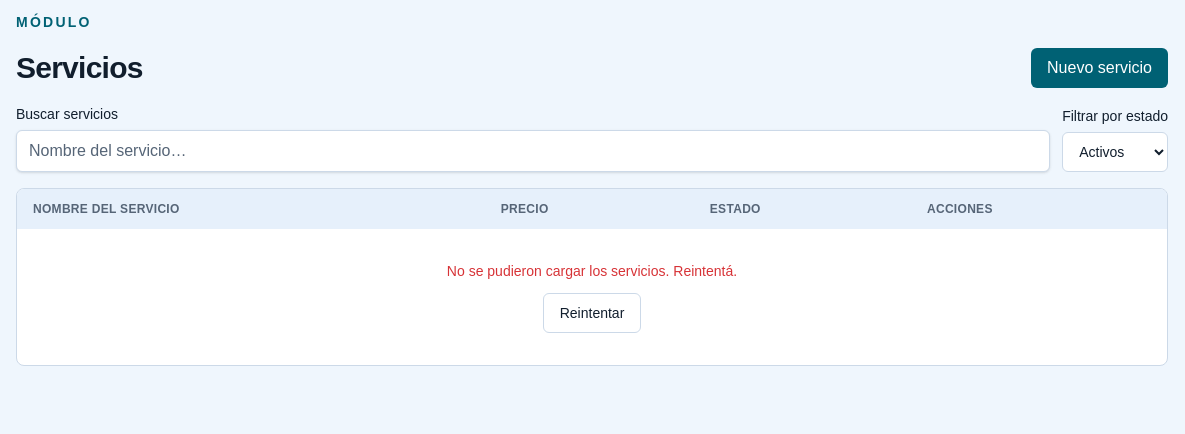
Test case: ServiciosPage › shows error and retries the load
Expected: the message "No se pudieron cargar los servicios. Reintentá. Reintentar" is shown, [447,263,737,333]
Click the button "Reintentar" at (592, 313), box [543,293,641,333]
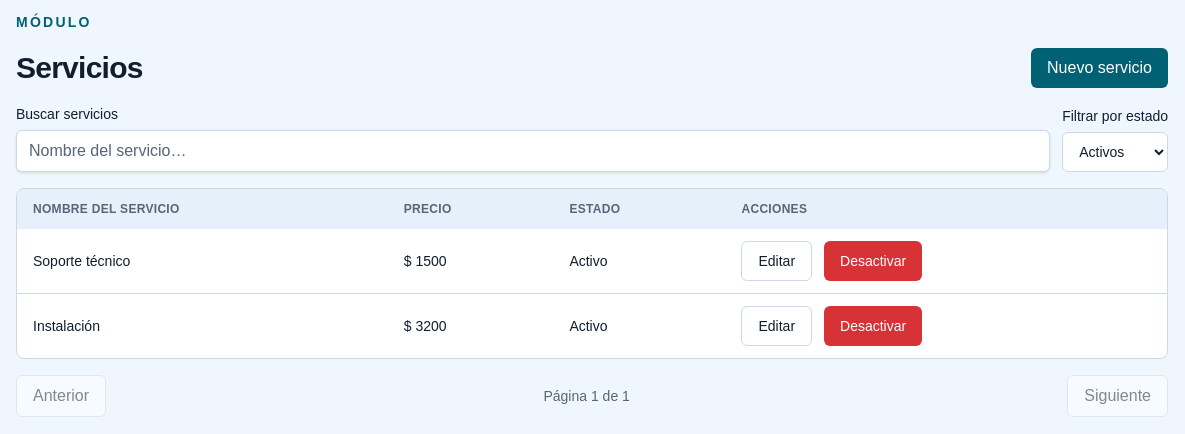
Now the text "Soporte técnico" is shown, box [17,229,388,294]
